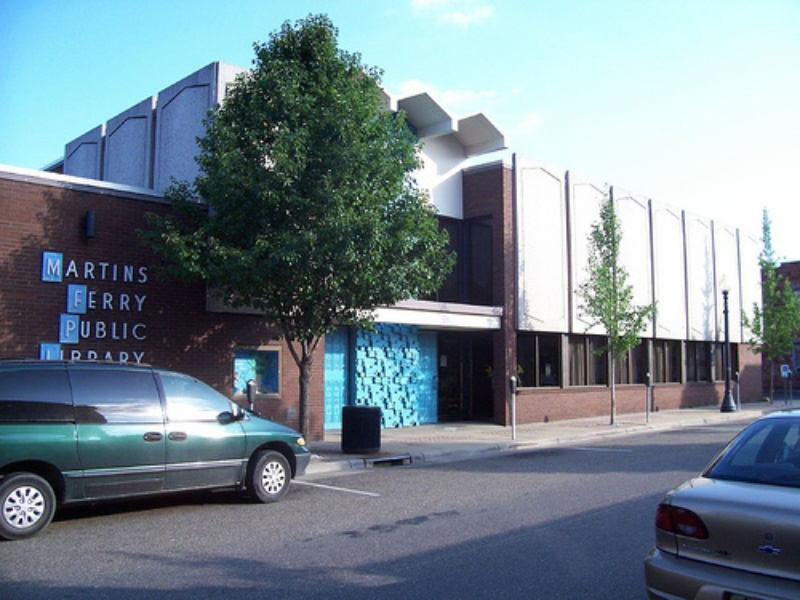car: (1, 360, 312, 539), (645, 407, 800, 600)
